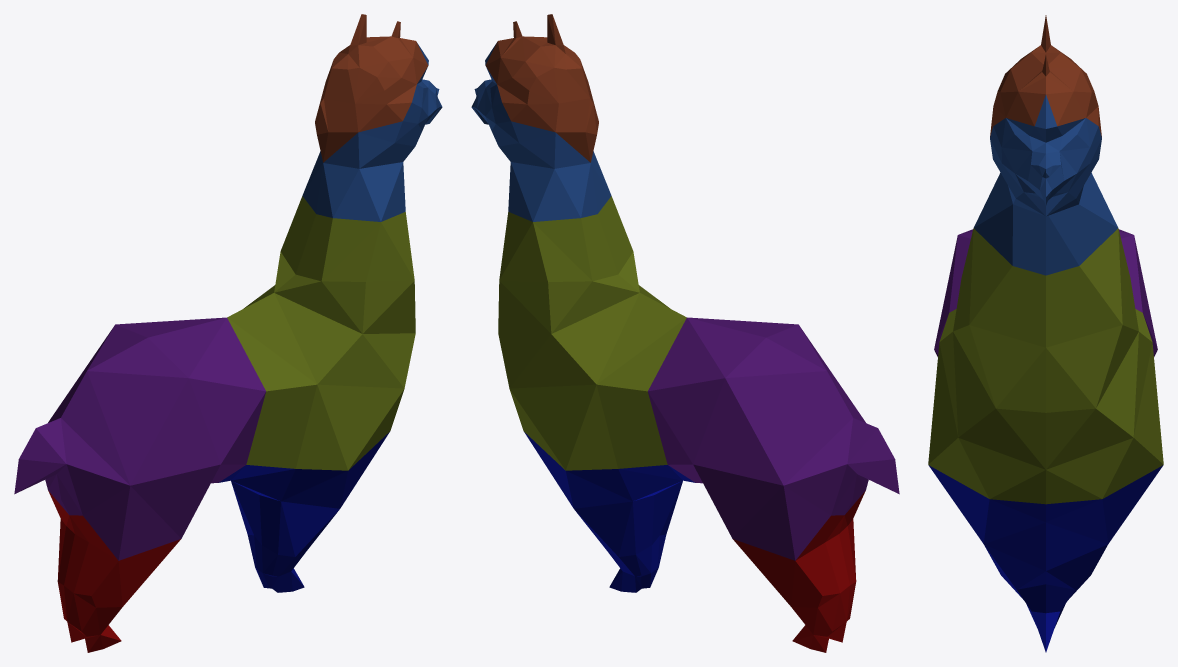
Rendered from alpaca.glb.
3 views of the same model, side by side, from view 1: azimuth 30°, elevation 25°; view 2: azimuth 150°, elevation 25°; view 3: azimuth 270°, elevation 25° (orthographic). The views are drawn at different scales.
Parts seen in each view (by area): view 1: Objects.Geometry.Mesh -- 83974b637d0f8a80c71c593a23a82288; view 2: Objects.Geometry.Mesh -- 83974b637d0f8a80c71c593a23a82288; view 3: Objects.Geometry.Mesh -- 83974b637d0f8a80c71c593a23a82288.
Part boxes in pixels (x1,y1,x2,y2): Objects.Geometry.Mesh -- 83974b637d0f8a80c71c593a23a82288: (14,14,442,652); Objects.Geometry.Mesh -- 83974b637d0f8a80c71c593a23a82288: (471,14,899,652); Objects.Geometry.Mesh -- 83974b637d0f8a80c71c593a23a82288: (928,15,1163,652).
Bounding box in the file's own units: 3.19 × 4.07 × 1.26.
